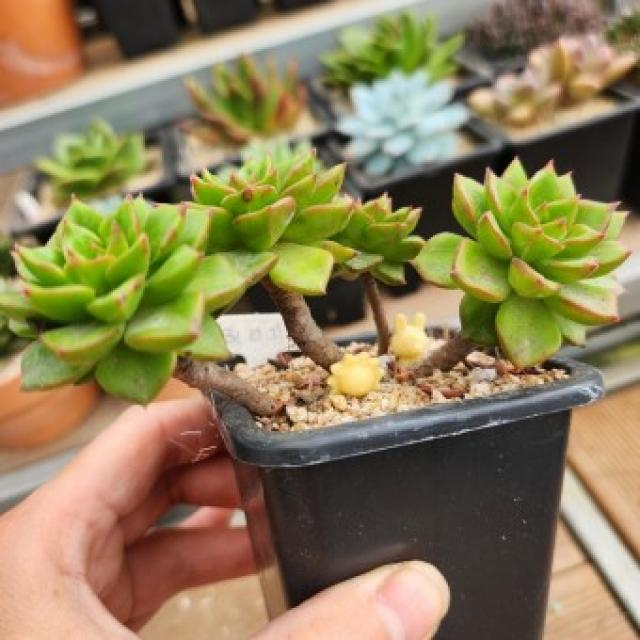Letizia: (0, 198, 275, 403), (414, 159, 630, 367)
